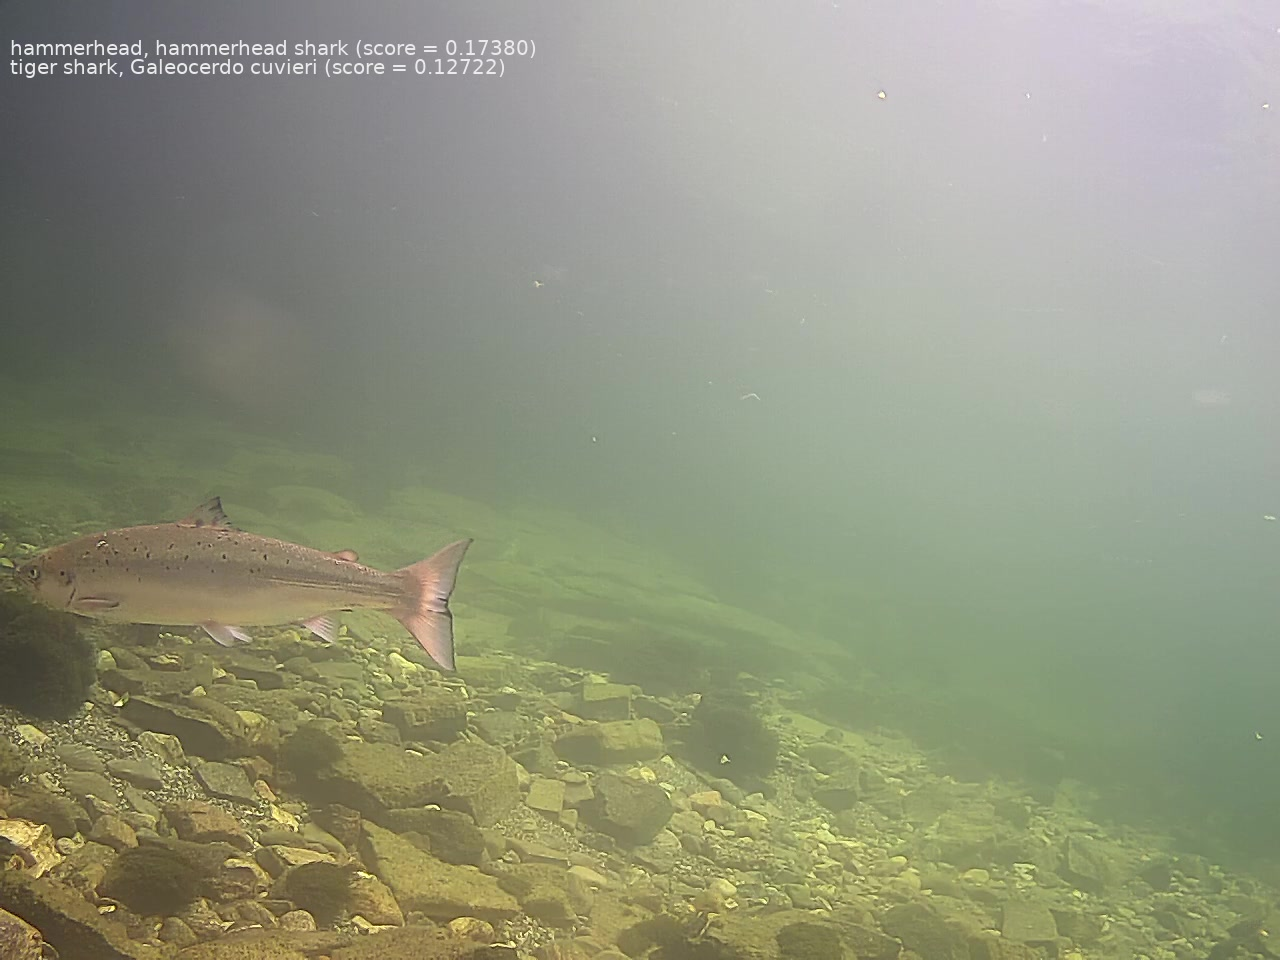salmon: (8, 494, 476, 673)
